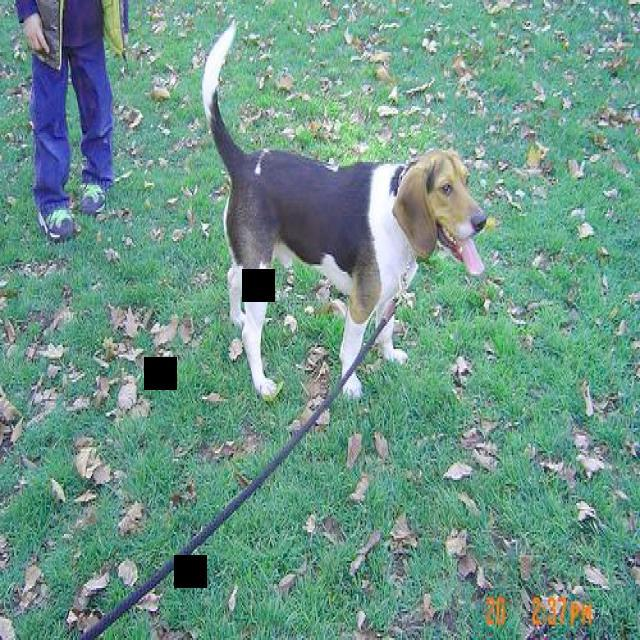adult_dog: (198, 21, 495, 406)
